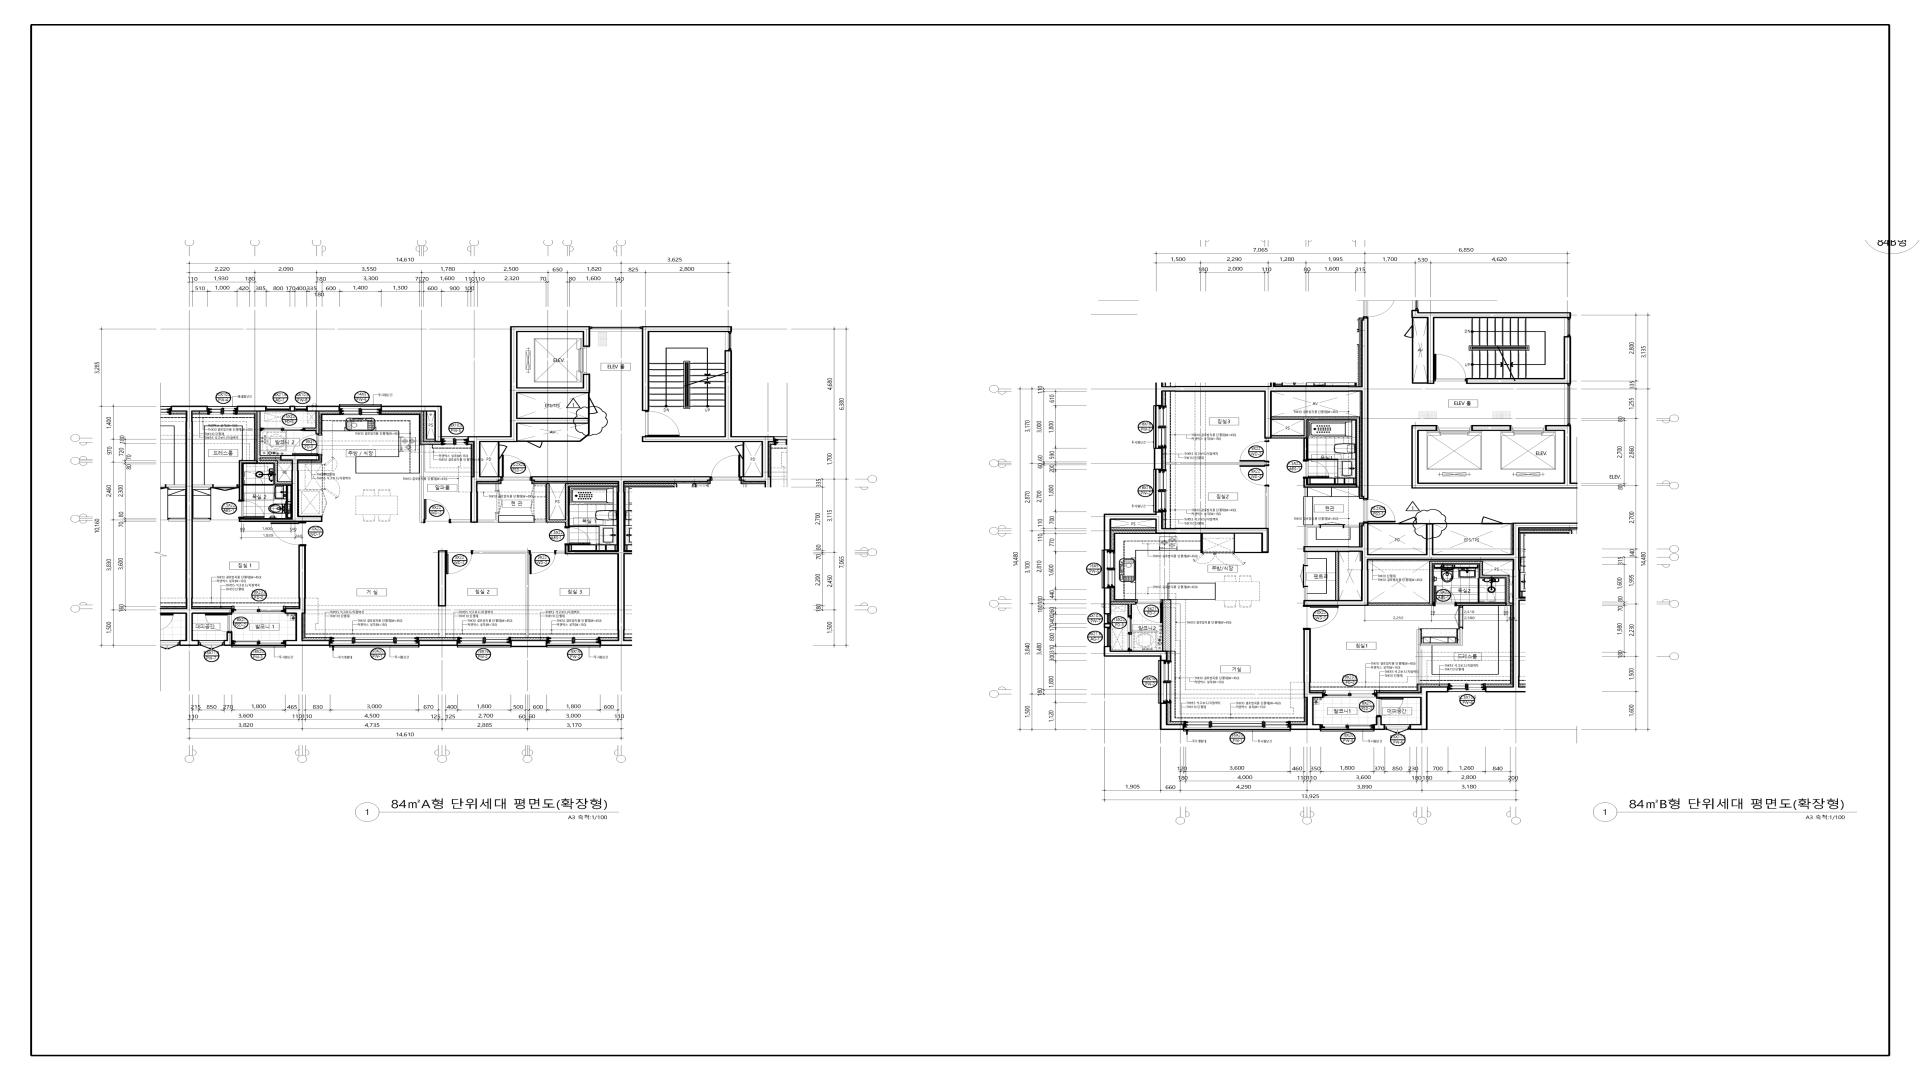door: (645, 411, 680, 436), (1435, 353, 1466, 381), (270, 522, 306, 546), (501, 455, 531, 481), (1364, 498, 1395, 522), (1307, 607, 1338, 629), (423, 498, 451, 524), (446, 550, 473, 575), (529, 550, 556, 575), (1135, 599, 1163, 624), (1240, 440, 1270, 463), (1240, 464, 1270, 487), (293, 434, 323, 455), (204, 615, 232, 633), (239, 500, 265, 518), (1303, 460, 1329, 479), (1377, 698, 1403, 716), (1435, 585, 1457, 607), (564, 527, 591, 545), (1478, 587, 1495, 601), (245, 472, 262, 485), (1455, 607, 1464, 628), (1300, 566, 1308, 587), (212, 484, 237, 491), (589, 397, 599, 414), (1320, 522, 1344, 529), (1482, 517, 1503, 524), (1398, 517, 1418, 524), (497, 491, 502, 513), (527, 442, 542, 448), (1404, 326, 1412, 338), (500, 444, 508, 455), (735, 444, 742, 455)
wall: (1155, 318, 1369, 498), (1303, 522, 1520, 692), (468, 326, 591, 524), (642, 351, 770, 476), (531, 476, 625, 646), (1411, 310, 1572, 384), (186, 406, 232, 646), (1411, 425, 1577, 489), (642, 326, 732, 411), (1271, 417, 1360, 497), (1104, 513, 1269, 554), (1367, 560, 1513, 607), (239, 455, 323, 522), (1466, 336, 1572, 384), (237, 411, 291, 500), (473, 551, 529, 637), (285, 546, 330, 646), (534, 483, 617, 527), (518, 393, 589, 442), (1291, 629, 1324, 731), (1377, 687, 1449, 731), (1416, 628, 1462, 684), (382, 406, 442, 442), (1412, 318, 1427, 384), (1104, 646, 1167, 661), (438, 550, 446, 638), (1160, 704, 1183, 731), (1163, 600, 1171, 651), (423, 411, 435, 442), (303, 411, 319, 434), (1112, 601, 1135, 616), (1304, 525, 1320, 546), (419, 444, 423, 522), (512, 640, 546, 647), (1472, 425, 1511, 431), (419, 640, 458, 646), (1104, 588, 1112, 615), (477, 513, 498, 522), (1154, 448, 1163, 469), (1336, 553, 1340, 600), (306, 406, 339, 411), (1265, 487, 1269, 527), (237, 406, 266, 411), (1374, 716, 1385, 731), (1166, 463, 1269, 464), (224, 632, 232, 646), (1112, 527, 1155, 530), (1416, 524, 1482, 525), (193, 485, 212, 488), (451, 520, 471, 522), (193, 520, 210, 522), (1344, 525, 1360, 527), (1369, 524, 1398, 525), (1304, 553, 1307, 566), (1304, 587, 1307, 600), (289, 406, 295, 411), (1104, 624, 1112, 628), (556, 551, 564, 554), (496, 484, 498, 491), (262, 484, 274, 485), (1503, 524, 1513, 525), (1478, 579, 1480, 587)
window: (1183, 721, 1291, 732), (330, 637, 419, 647), (546, 637, 601, 647), (1154, 405, 1167, 448), (1154, 469, 1167, 513), (1158, 661, 1171, 704), (458, 637, 512, 647), (1101, 550, 1116, 588), (339, 404, 382, 415), (232, 605, 286, 613), (1324, 690, 1377, 698), (231, 641, 286, 647), (1320, 725, 1374, 732), (1448, 683, 1485, 692), (591, 326, 642, 331), (1564, 384, 1571, 425), (208, 406, 237, 415), (442, 436, 468, 446), (199, 641, 224, 650), (1385, 724, 1410, 733), (261, 427, 303, 431), (1104, 628, 1112, 646), (1127, 616, 1131, 650), (266, 406, 290, 411), (725, 332, 732, 351), (1564, 318, 1571, 336), (1104, 615, 1112, 624), (295, 406, 306, 411)
